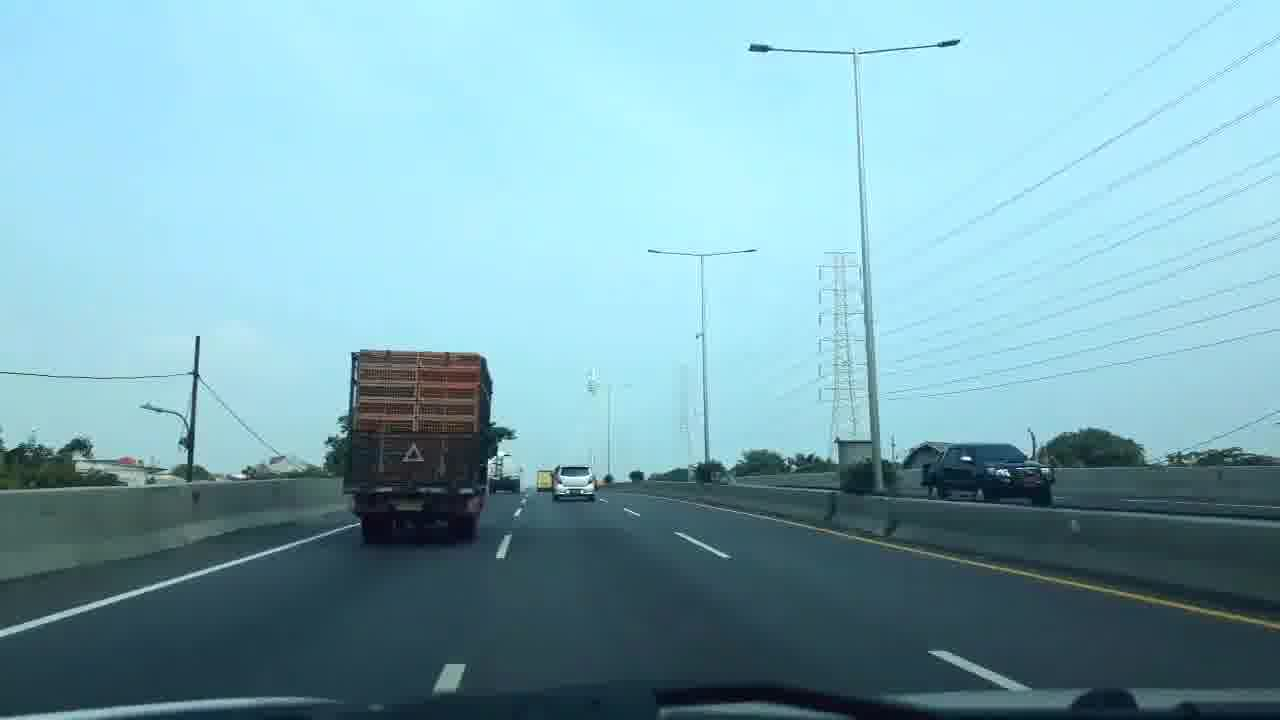plate_positive: (394, 502, 424, 512), (569, 489, 581, 494)
